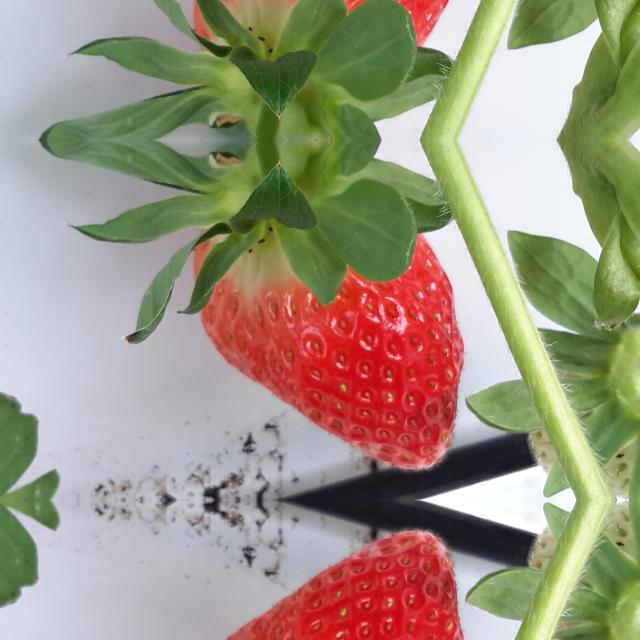Health_100: (194, 230, 464, 470), (194, 529, 464, 640), (194, 0, 464, 50)
